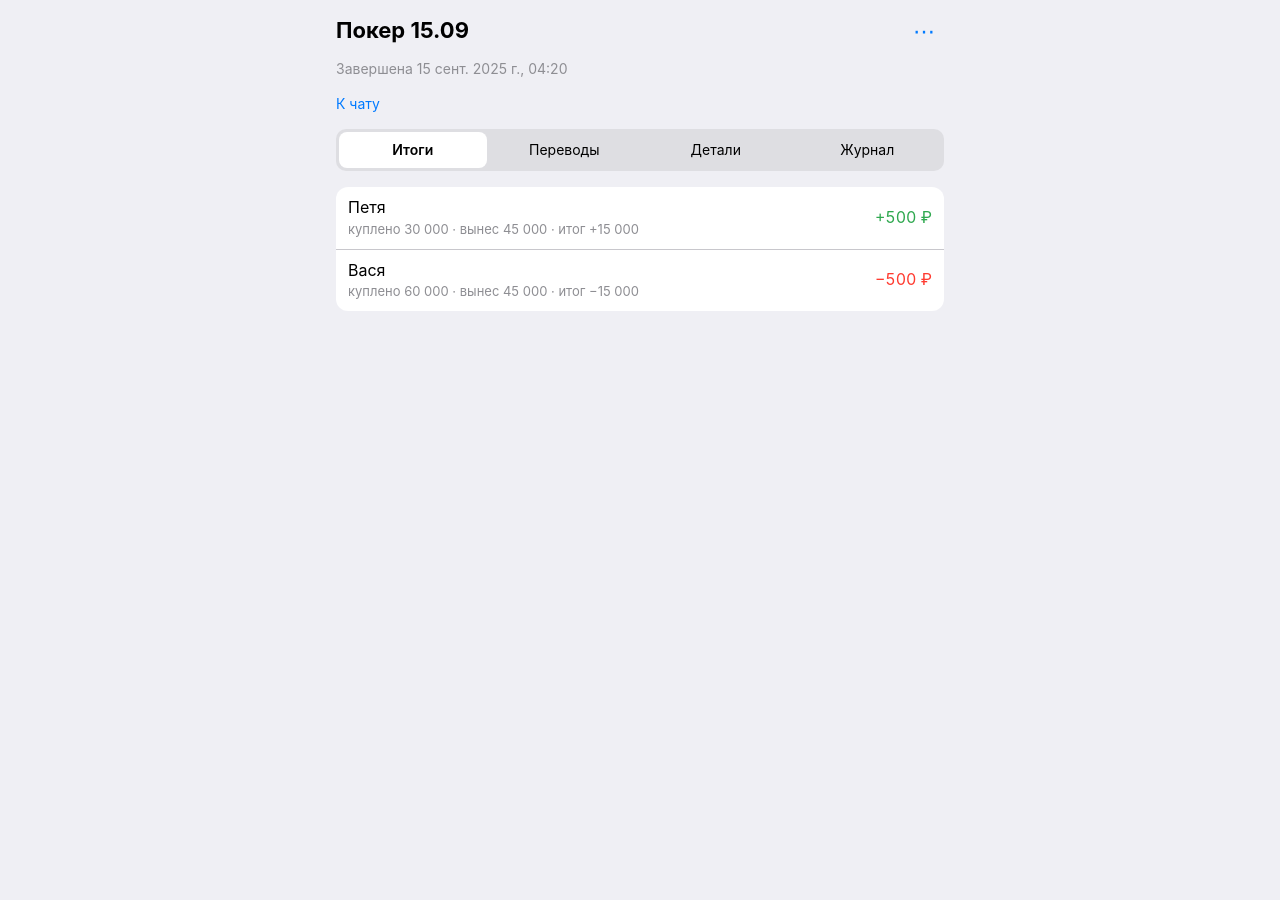
Test: finished game menu › lets the creator reopen the game
Click the button named "Меню" at (924, 32), box [904, 12, 944, 52]
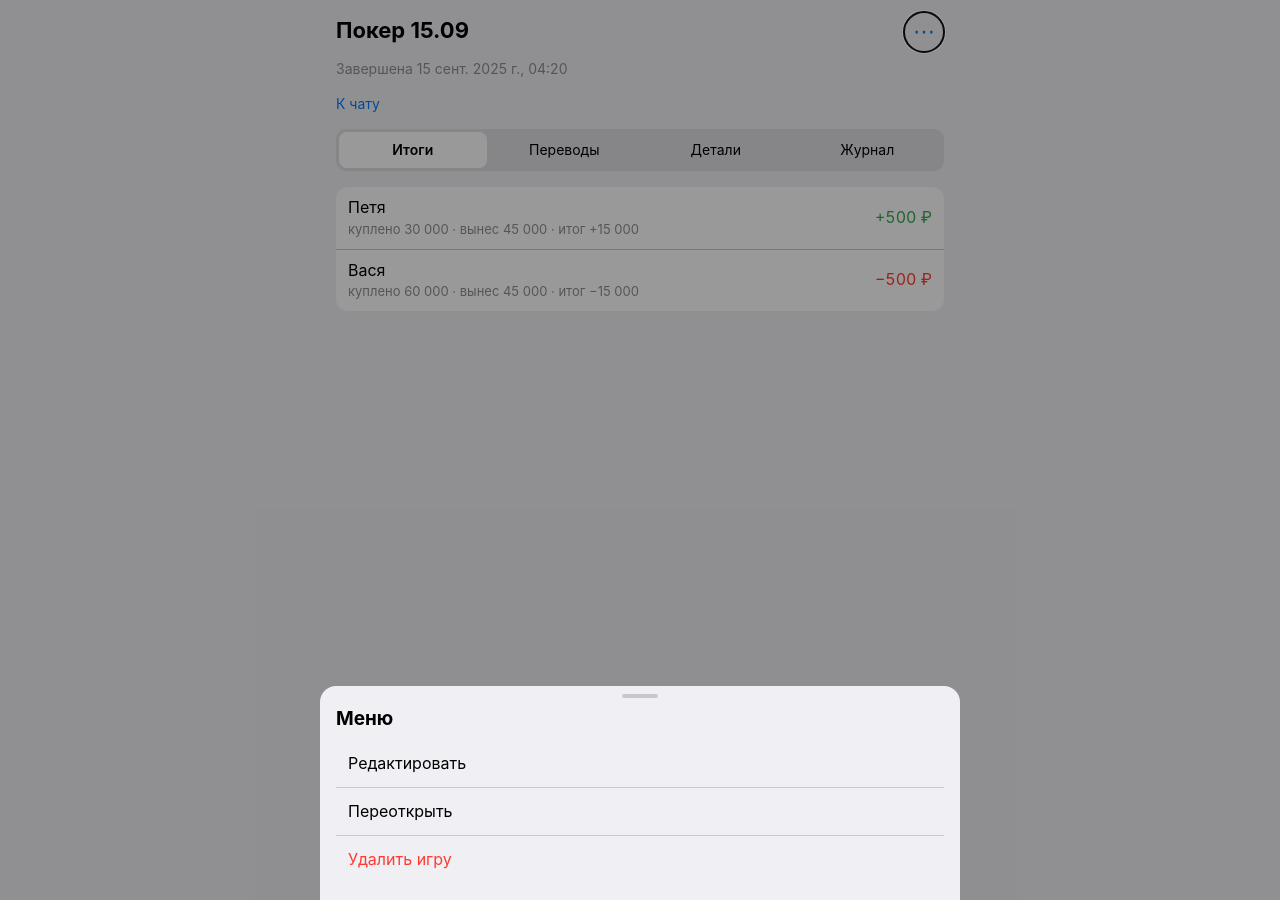
Now the button "Редактировать" is shown, box [336, 740, 944, 788]
Click the button "Переоткрыть" at (400, 811), box [336, 788, 944, 836]
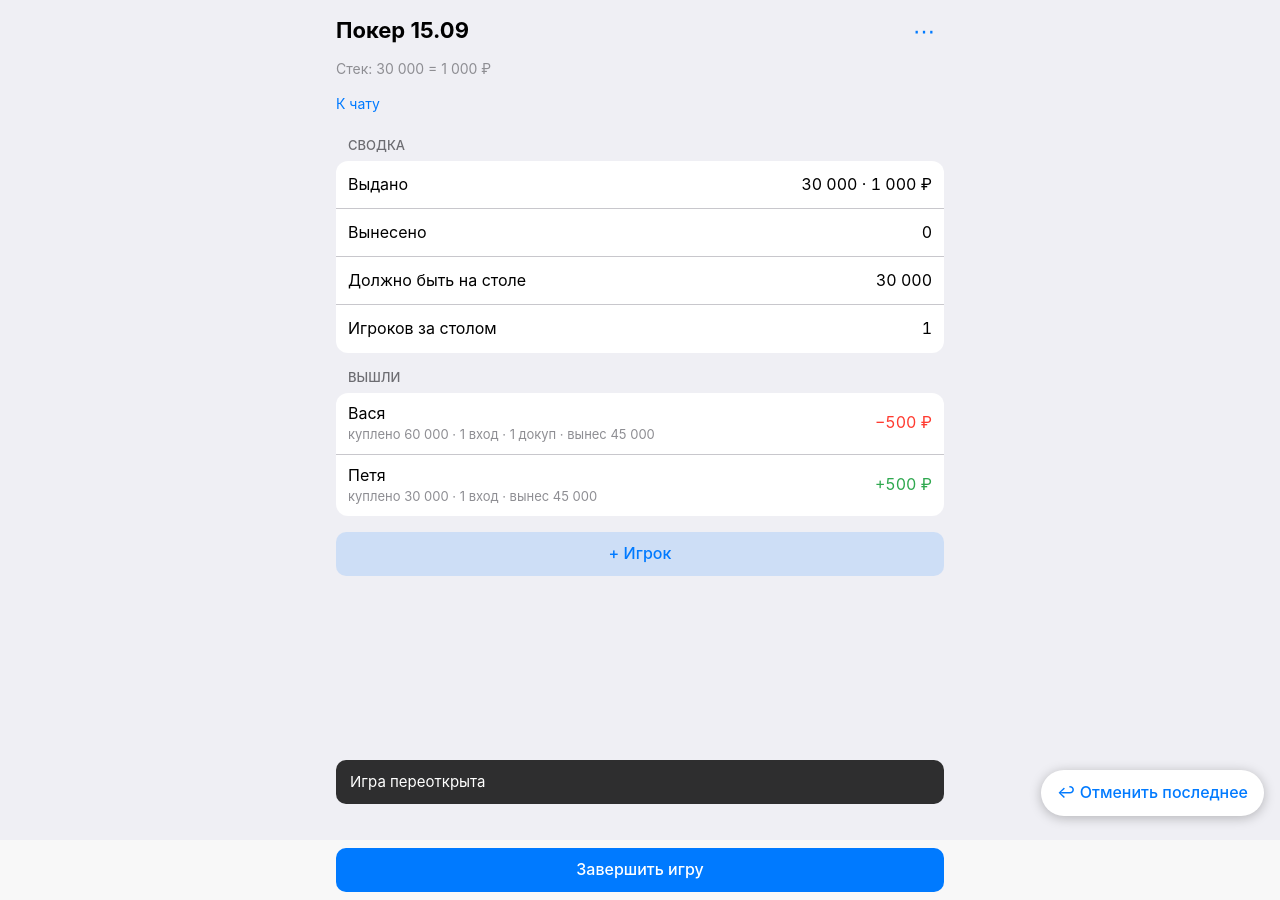
Now the button "Завершить игру" is shown, box [336, 848, 944, 892]
